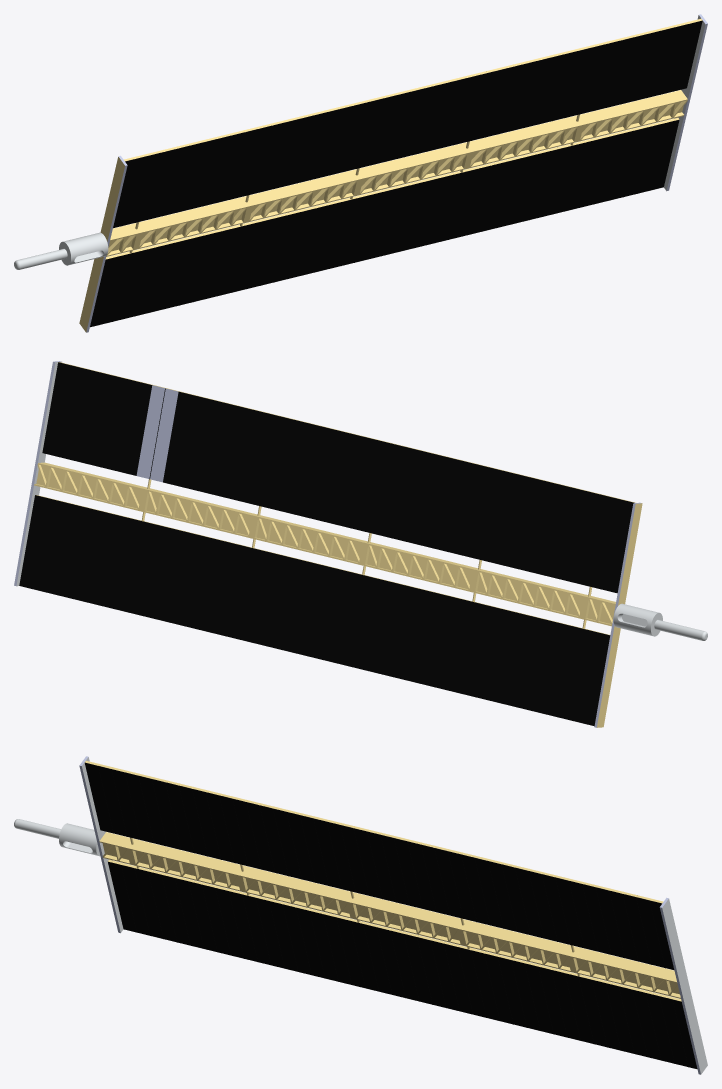
File: solarpanels_5.FBX
3 views of the same model, one above another, from view 1: azimuth 30°, elevation 25°; view 2: azimuth 150°, elevation 25°; view 3: azimuth 330°, elevation 25° (orthographic).
Parts seen in each view (by area): view 1: pieza N111 ISS-4-solid1; view 2: pieza N111 ISS-4-solid1; view 3: pieza N111 ISS-4-solid1.
Part boxes in pixels (box(x1,y1,x2,y2)): pieza N111 ISS-4-solid1: box(14, 14, 707, 332); pieza N111 ISS-4-solid1: box(14, 361, 707, 727); pieza N111 ISS-4-solid1: box(14, 756, 707, 1074).
Bounding box in the file's own units: 2700 × 771 × 320.
